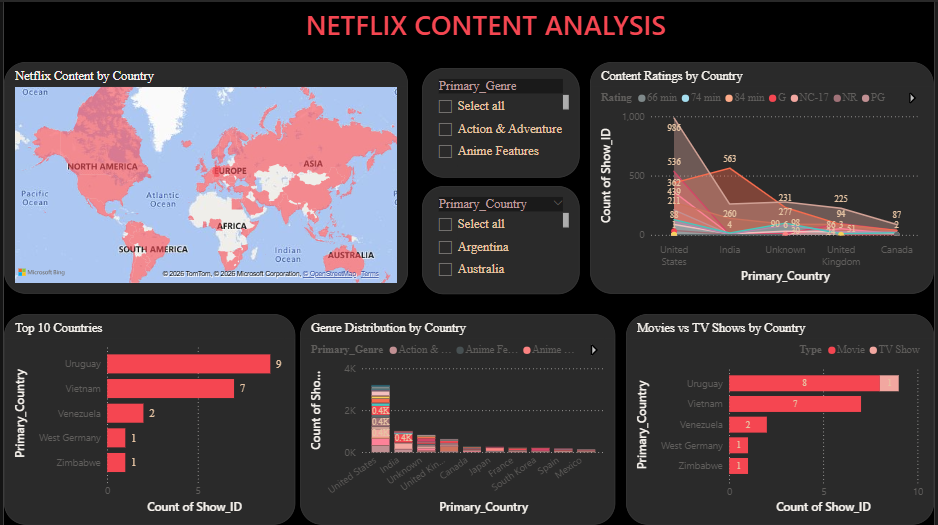

Layout of this report page (visuals, bound fields, positions):
{"tool":"powerbi","page":{"name":"Country Analysis","canvas":[1280,720],"ordinal":2},"visuals":[{"type":"filledMap","title":"Netflix Content by Country","fields":{"Category":["netflix_titles (Autosaved).Primary_Country"],"Y":["Count(netflix_titles (Autosaved).Show_ID)"]},"box":[0,82.9,555.7,318.6],"z":0},{"type":"clusteredBarChart","title":"Top 10 Countries","fields":{"Category":["netflix_titles (Autosaved).Primary_Country"],"Y":["CountNonNull(netflix_titles (Autosaved).Show_ID)"]},"box":[0,430,401.4,290],"z":1000},{"type":"barChart","title":"Movies vs TV Shows by Country","fields":{"Category":["netflix_titles (Autosaved).Primary_Country"],"Y":["CountNonNull(netflix_titles (Autosaved).Show_ID)"],"Series":["netflix_titles (Autosaved).Type"]},"box":[855.7,430,424.3,290],"z":2000},{"type":"columnChart","title":"Genre Distribution by Country","fields":{"Category":["netflix_titles (Autosaved).Primary_Country"],"Y":["CountNonNull(netflix_titles (Autosaved).Show_ID)"],"Series":["netflix_titles (Autosaved).Primary_Genre"]},"box":[407.1,430,434.3,290],"z":3000},{"type":"areaChart","title":"Content Ratings by Country","fields":{"Category":["netflix_titles (Autosaved).Primary_Country"],"Y":["CountNonNull(netflix_titles (Autosaved).Show_ID)"],"Series":["netflix_titles (Autosaved).Rating"]},"box":[807.1,82.9,472.9,318.6],"z":4000},{"type":"slicer","fields":{"Values":["netflix_titles (Autosaved).Primary_Country"]},"box":[575.7,252.9,217.1,148.6],"z":5000},{"type":"slicer","fields":{"Values":["netflix_titles (Autosaved).Primary_Genre"]},"box":[575.7,91.4,217.1,151.4],"z":7000},{"type":"textbox","box":[160,0,1007.1,71.4],"z":7001}]}

Visuals, with their boxes in screenshot pixels (x1, y1, x2, y2), scaled from the page's 1280x720 canvas onto the 938x525 screenshot:
"Netflix Content by Country" filledMap: <region>0, 60, 407, 293</region>
"Top 10 Countries" clusteredBarChart: <region>0, 314, 294, 524</region>
"Movies vs TV Shows by Country" barChart: <region>627, 314, 937, 524</region>
"Genre Distribution by Country" columnChart: <region>298, 314, 617, 524</region>
"Content Ratings by Country" areaChart: <region>591, 60, 937, 293</region>
slicer - netflix_titles (Autosaved).Primary_Country: <region>422, 184, 581, 293</region>
slicer - netflix_titles (Autosaved).Primary_Genre: <region>422, 67, 581, 177</region>
textbox: <region>117, 0, 855, 52</region>
